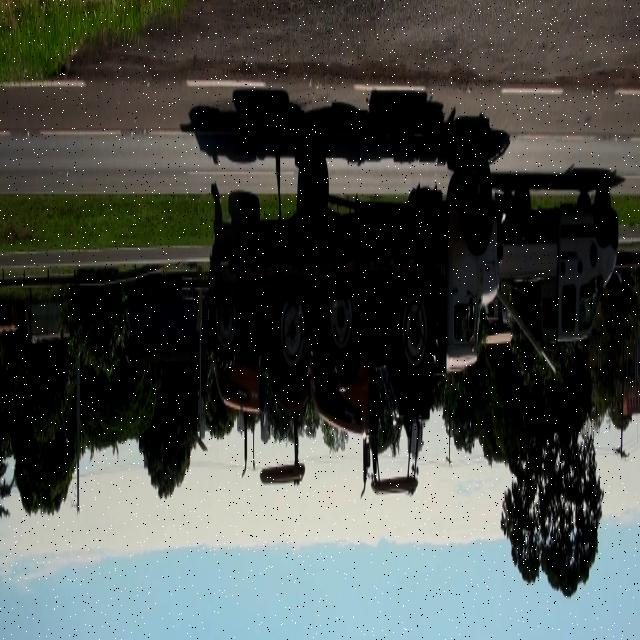-axle: (298, 143, 332, 240), (461, 146, 494, 238)
